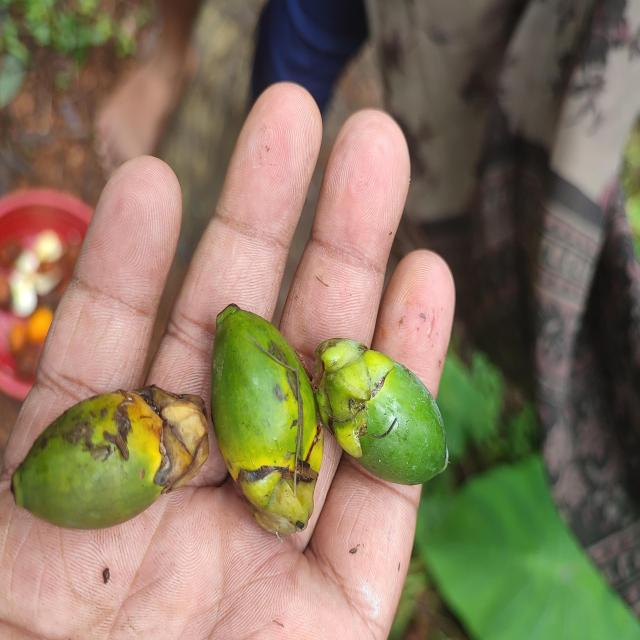damaged: (9, 386, 218, 532), (210, 307, 321, 543), (315, 339, 448, 487)
